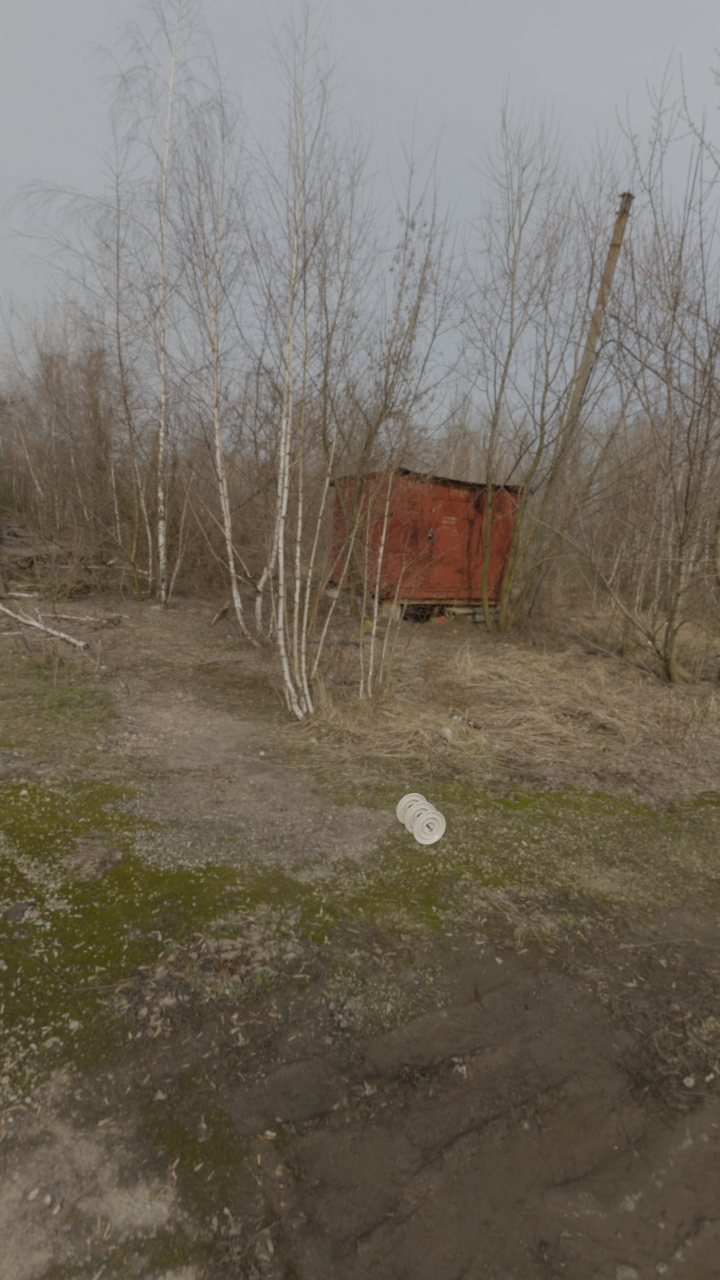ceramicinsulators: (396, 793, 446, 845)
